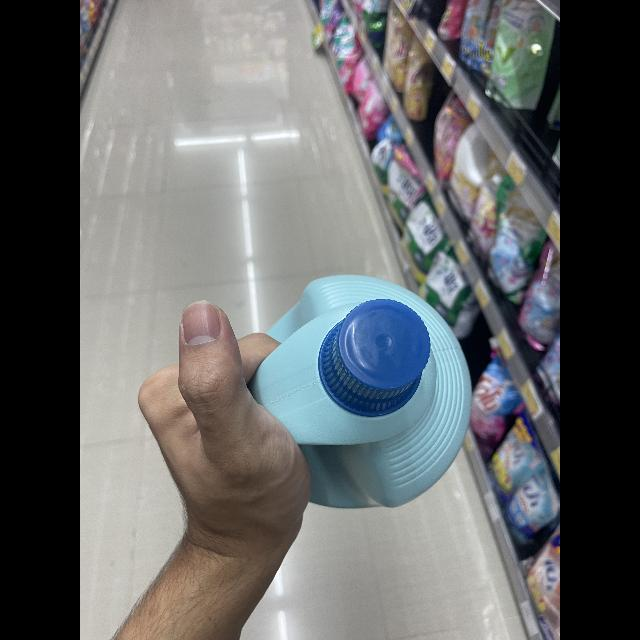chemical_plastic_bottle: (230, 266, 478, 518)
